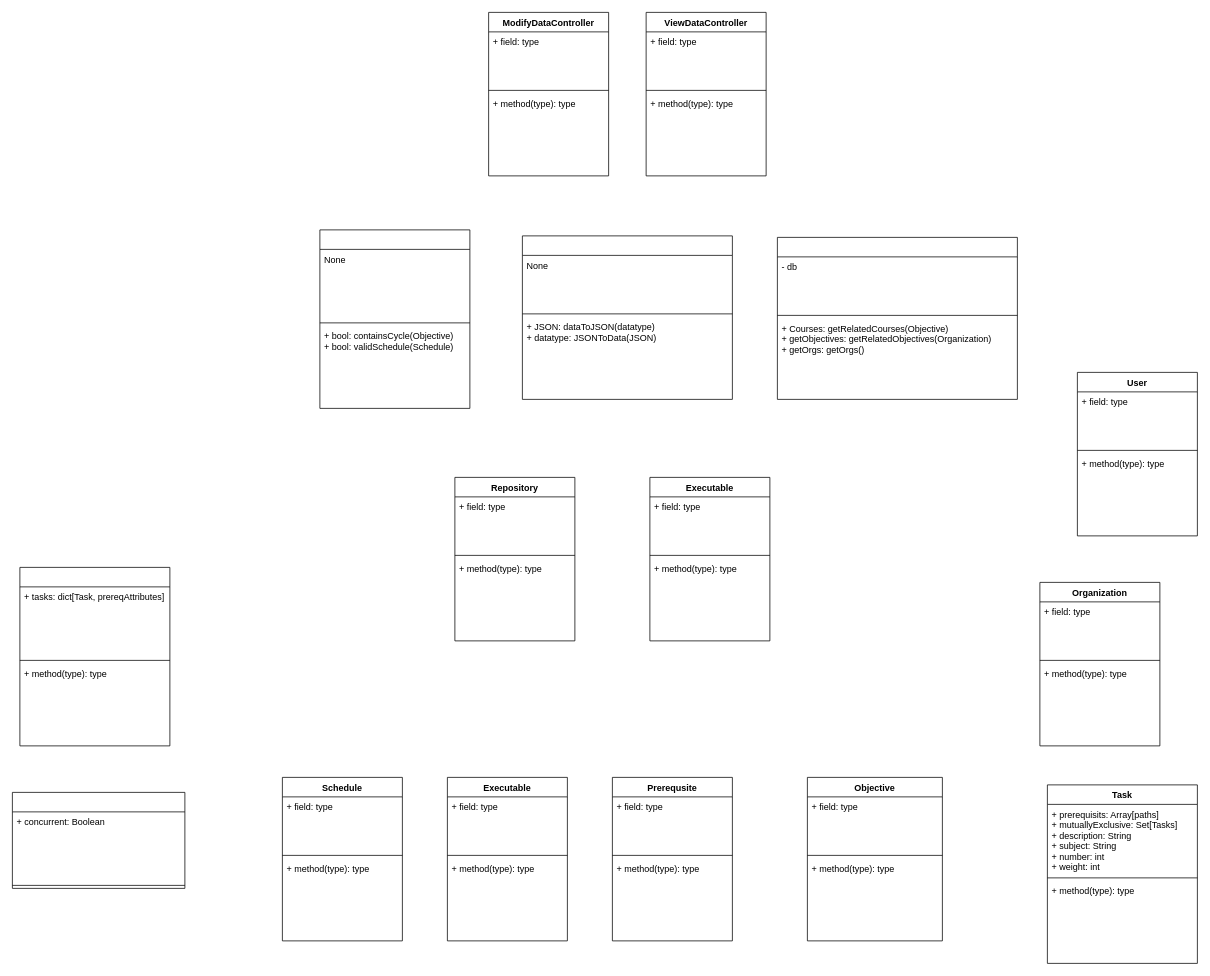
The diagram is 1210 pixels wide and 976 high, and some of its shapes have lost their labels. Here are the shapes that lost their labels. From the top down, the box of each, then its label:
(319, 229, 470, 408): Verifier
(522, 235, 732, 399): Transformer
(777, 237, 1017, 399): DBManager
(19, 567, 170, 746): Path
(12, 792, 185, 888): PrereqAttributes
